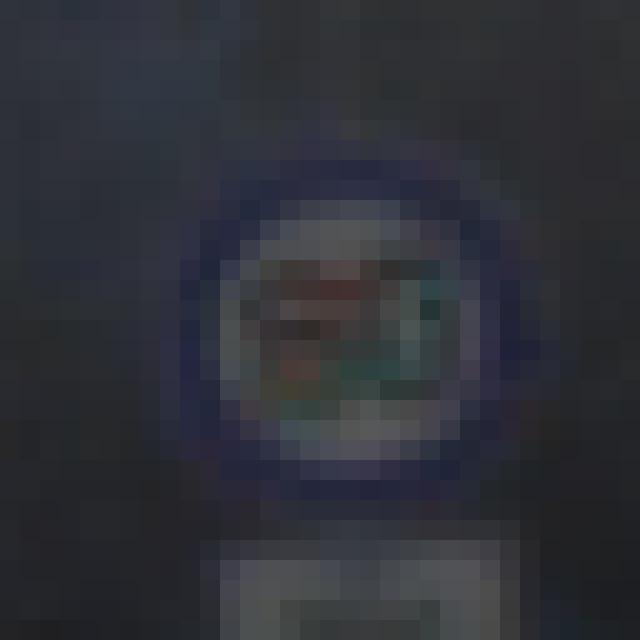SPEED-LIMIT-80: (179, 168, 501, 510)
